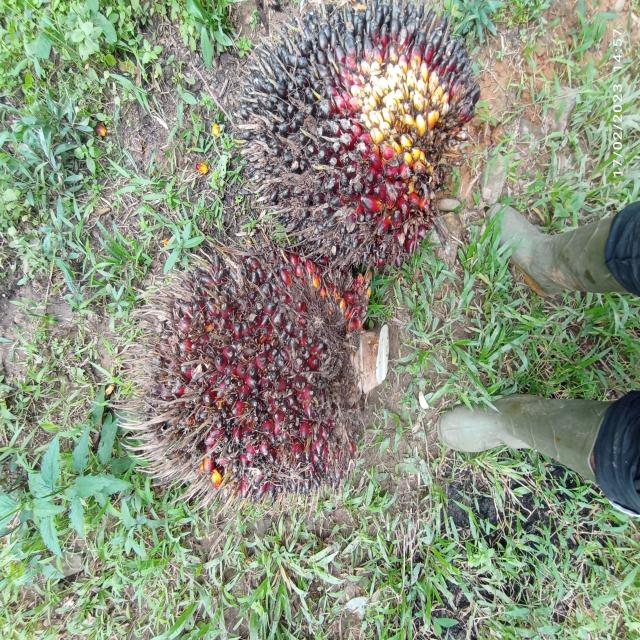fraksi 00: (227, 0, 491, 260)
fraksi 1: (125, 227, 418, 532)
